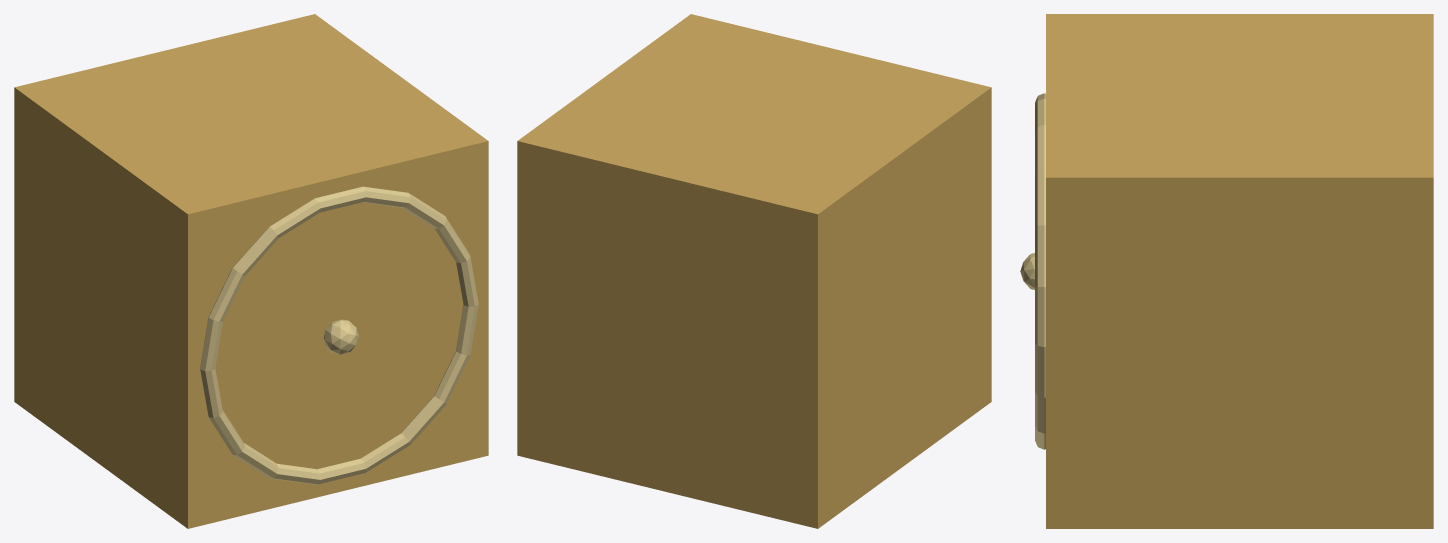
The model's file is magnet.glb.
3 views of the same model, side by side, from view 1: azimuth 30°, elevation 25°; view 2: azimuth 150°, elevation 25°; view 3: azimuth 270°, elevation 25° (orthographic). The views are drawn at different scales.
Parts seen in each view (by area): view 1: world; view 2: world; view 3: world.
Boxes of the visible parts, x1,y1,x2,y2 form: world: (14,14,488,528); world: (517,14,991,528); world: (1020,14,1433,528).
Bounding box in the file's own units: 1.05 × 1.05 × 1.12.
